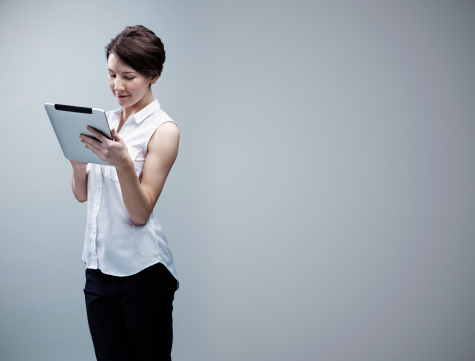em pe: (50, 33, 186, 360)
